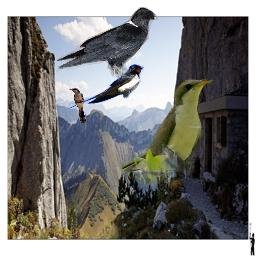Crow: (54, 7, 158, 81)
Cuckoo: (121, 76, 214, 186), (69, 88, 86, 123)
Swallow: (66, 64, 144, 110)
